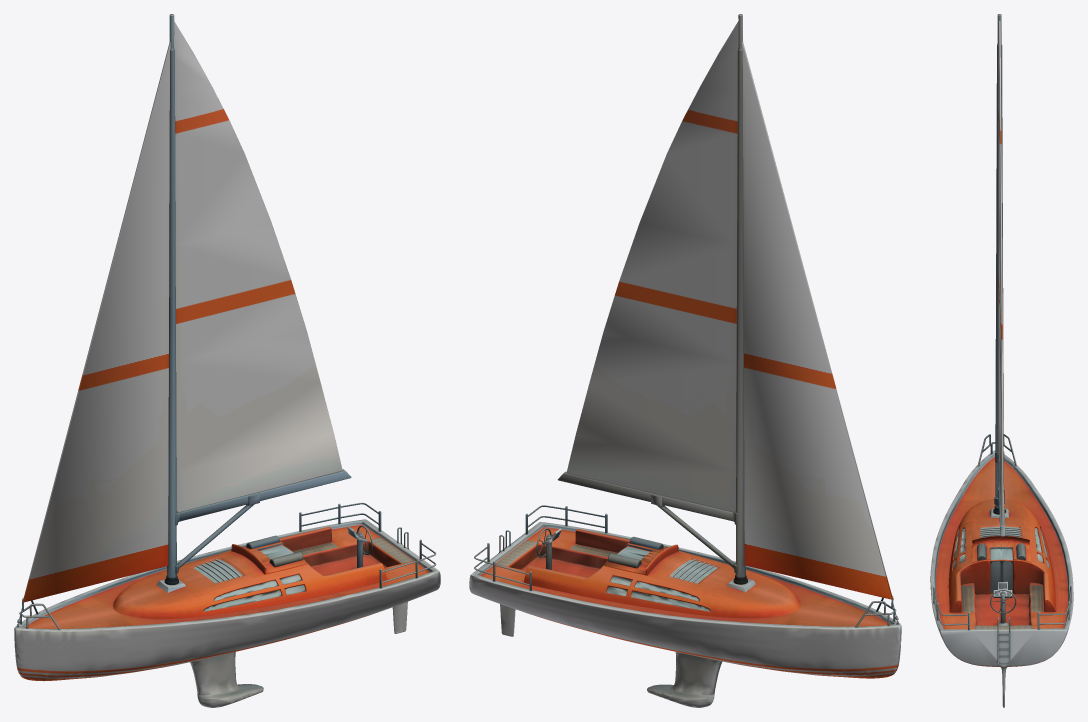
The model's file is yatch.fbx.
3 renders of one model, left to right at view 1: azimuth 30°, elevation 25°; view 2: azimuth 150°, elevation 25°; view 3: azimuth 270°, elevation 25°, orthographic. The views are drawn at different scales.
Parts seen in each view (by area): view 1: node_id176; view 2: node_id176; view 3: node_id176.
Part boxes in pixels (x1,y1,x2,y2): node_id176: [14, 14, 440, 707]; node_id176: [469, 14, 901, 707]; node_id176: [930, 14, 1073, 707].
Size of the model in its own units: 30.92 by 51.2 by 10.81.
